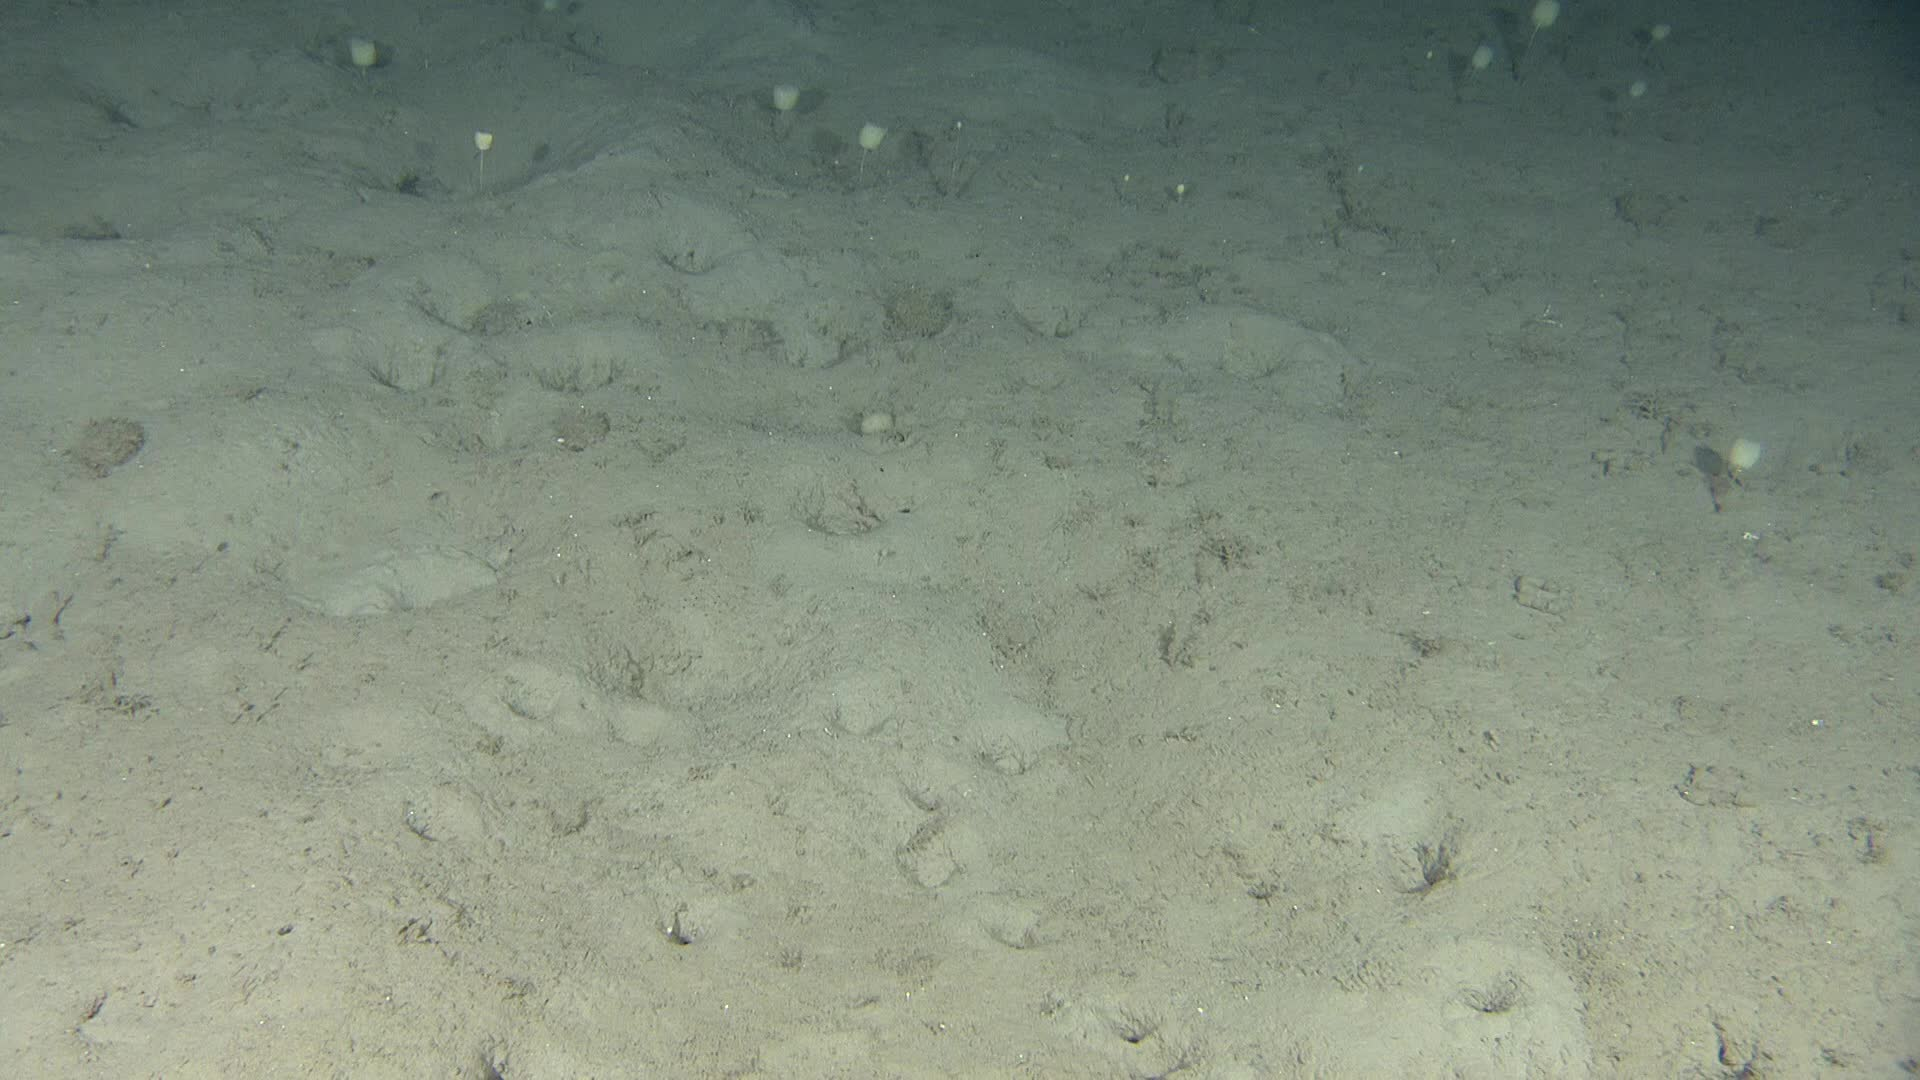S.borealis: (1709, 416, 1786, 513), (1498, 0, 1574, 81), (845, 108, 883, 194), (461, 113, 499, 189), (1459, 43, 1498, 108), (1651, 11, 1690, 76), (1613, 65, 1651, 130), (346, 22, 384, 86), (768, 81, 806, 135), (1344, 157, 1382, 211), (950, 119, 970, 184), (1450, 227, 1469, 270), (1123, 167, 1142, 200), (1162, 178, 1181, 211)
